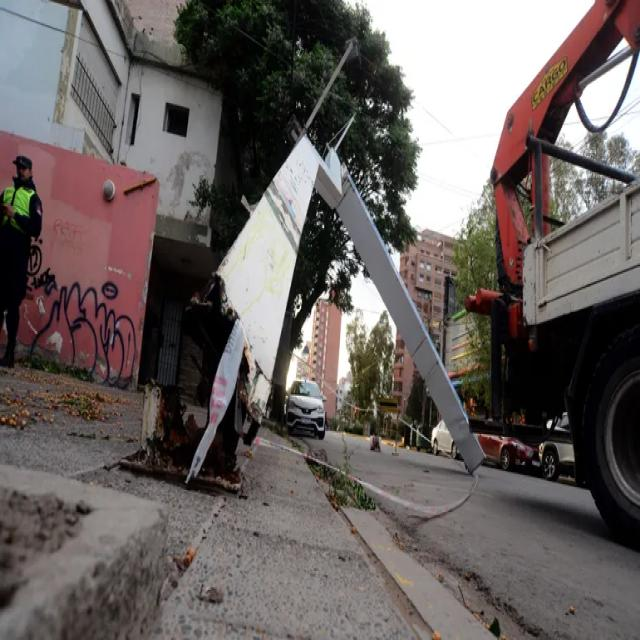Inclined Pole: (125, 129, 489, 499)
